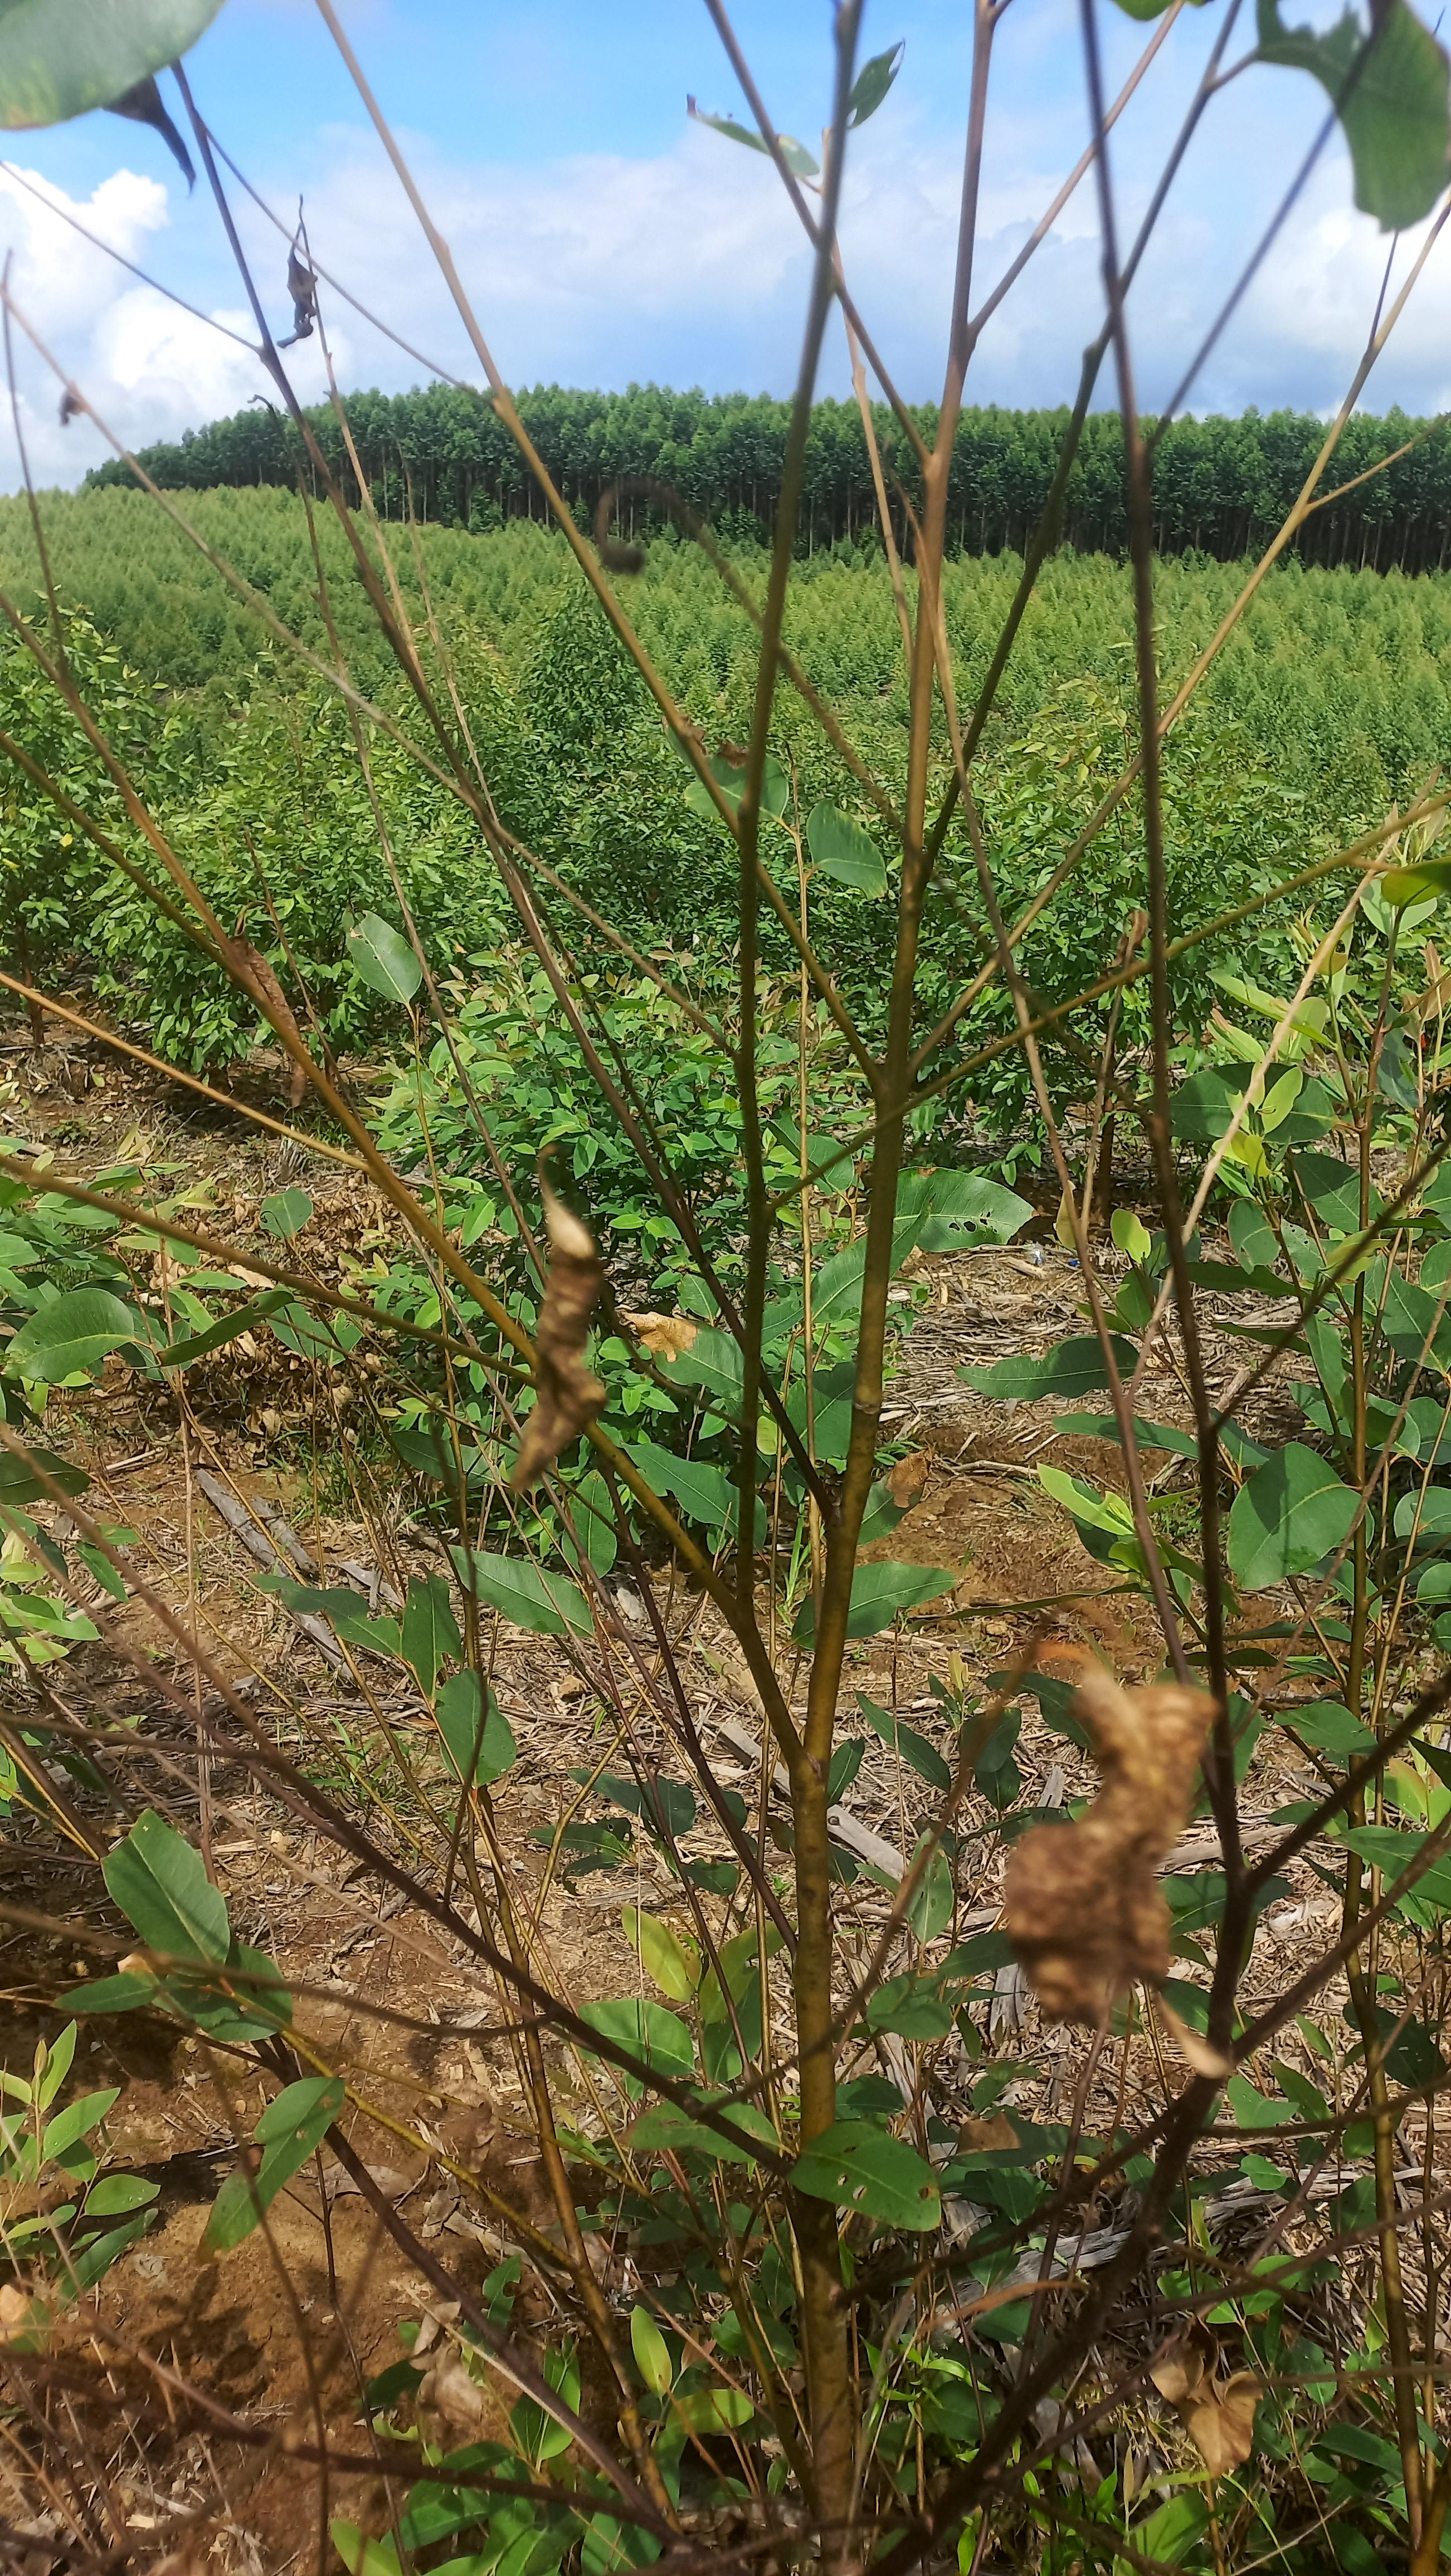Helopeltis-Withered Sprout: (982, 1617, 1281, 2104), (480, 1161, 635, 1529), (269, 202, 336, 375)
